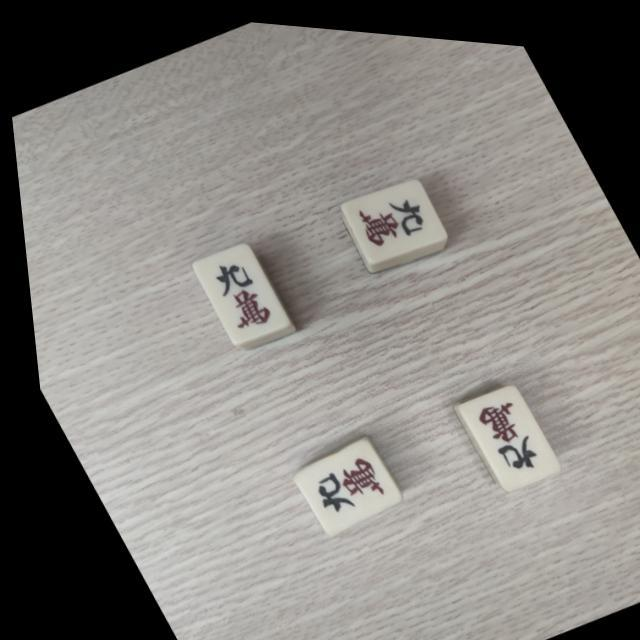sc9: (454, 377, 548, 480), (288, 436, 390, 528), (190, 239, 280, 339), (339, 170, 438, 257)
